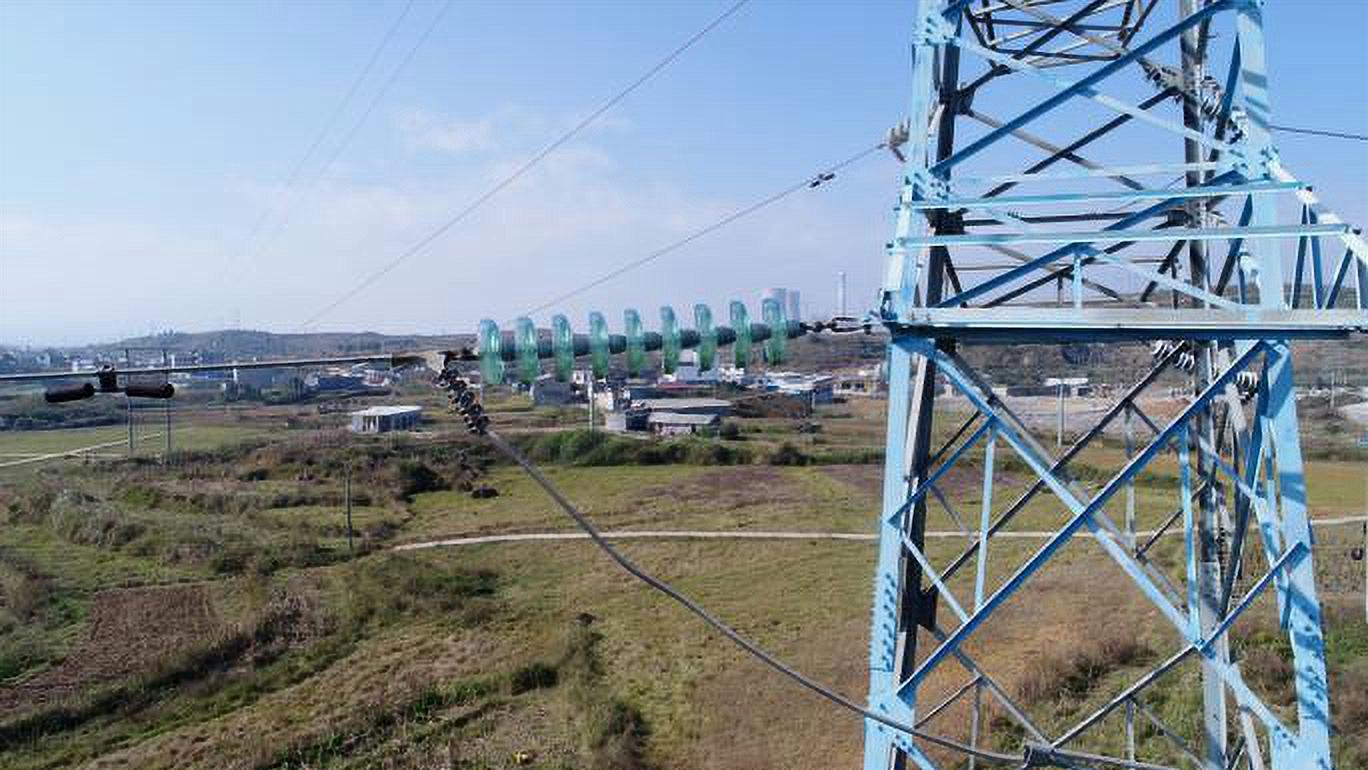insulator: (466, 291, 794, 394), (1147, 335, 1267, 397)
